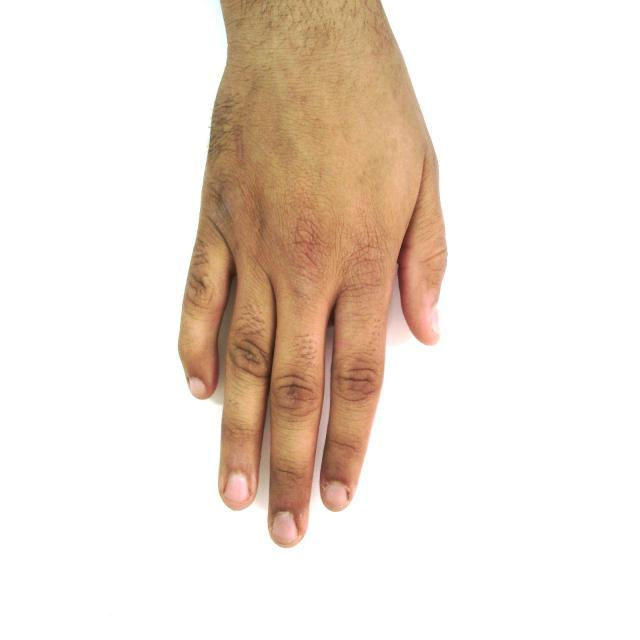Fingernail: (272, 512, 297, 545), (226, 474, 249, 502), (324, 483, 348, 509), (189, 377, 206, 396), (431, 307, 441, 333)
